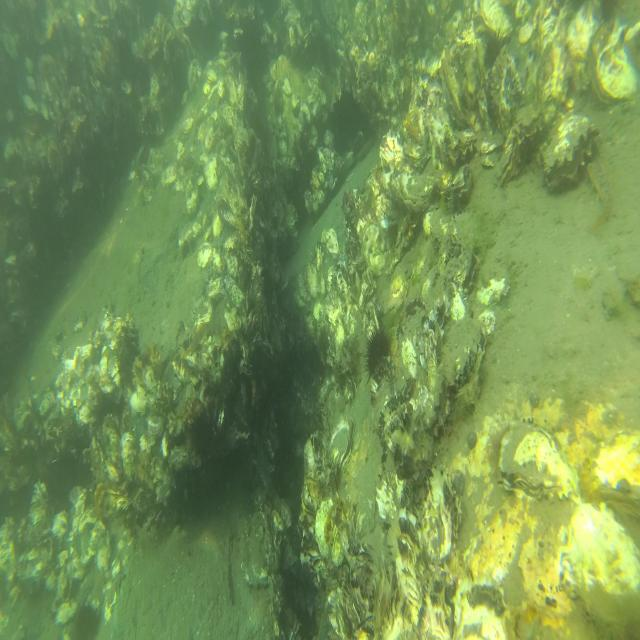echinus: (362, 321, 391, 388), (186, 407, 214, 456), (73, 597, 101, 640), (483, 28, 506, 68)
